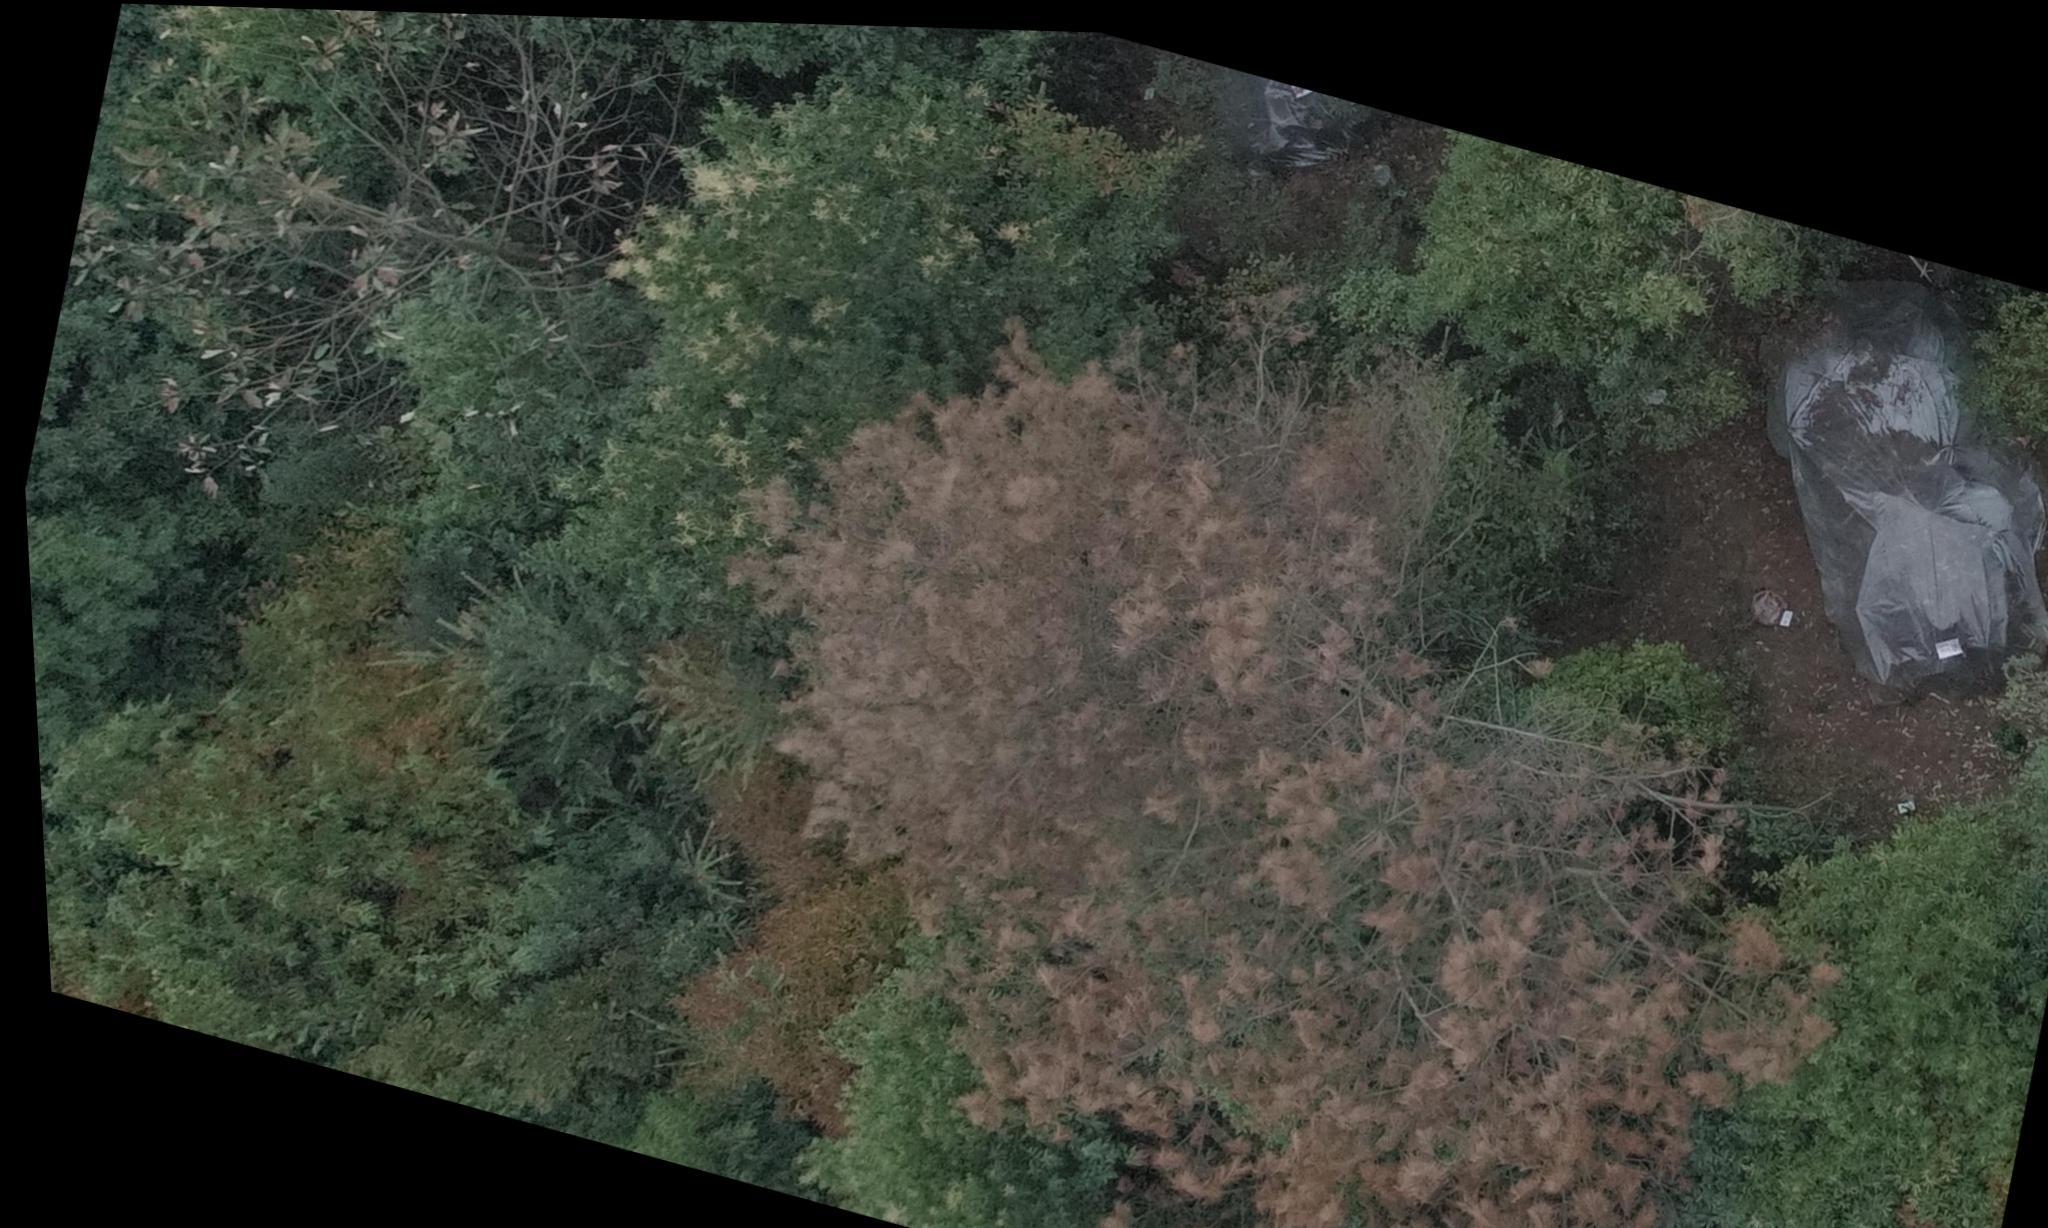heavy: (637, 285, 1914, 1228)
